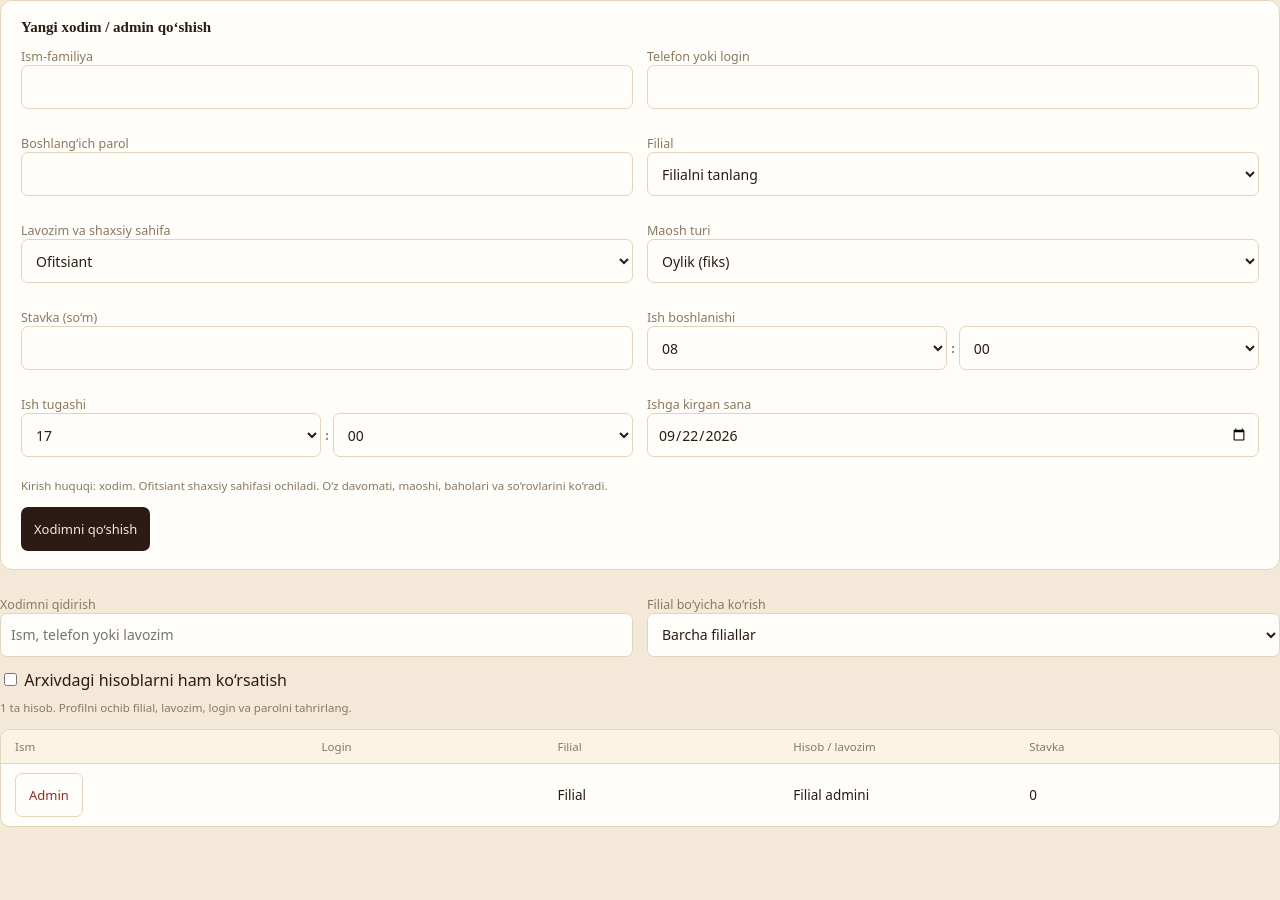
Test: requires an explicit branch, identifies its admin, and keeps a failed new-employee form
This screenshot has width=1280, height=900.
Type "New employee" into the field labelled "Ism-familiya" at (327, 87), box [21,65,633,109]
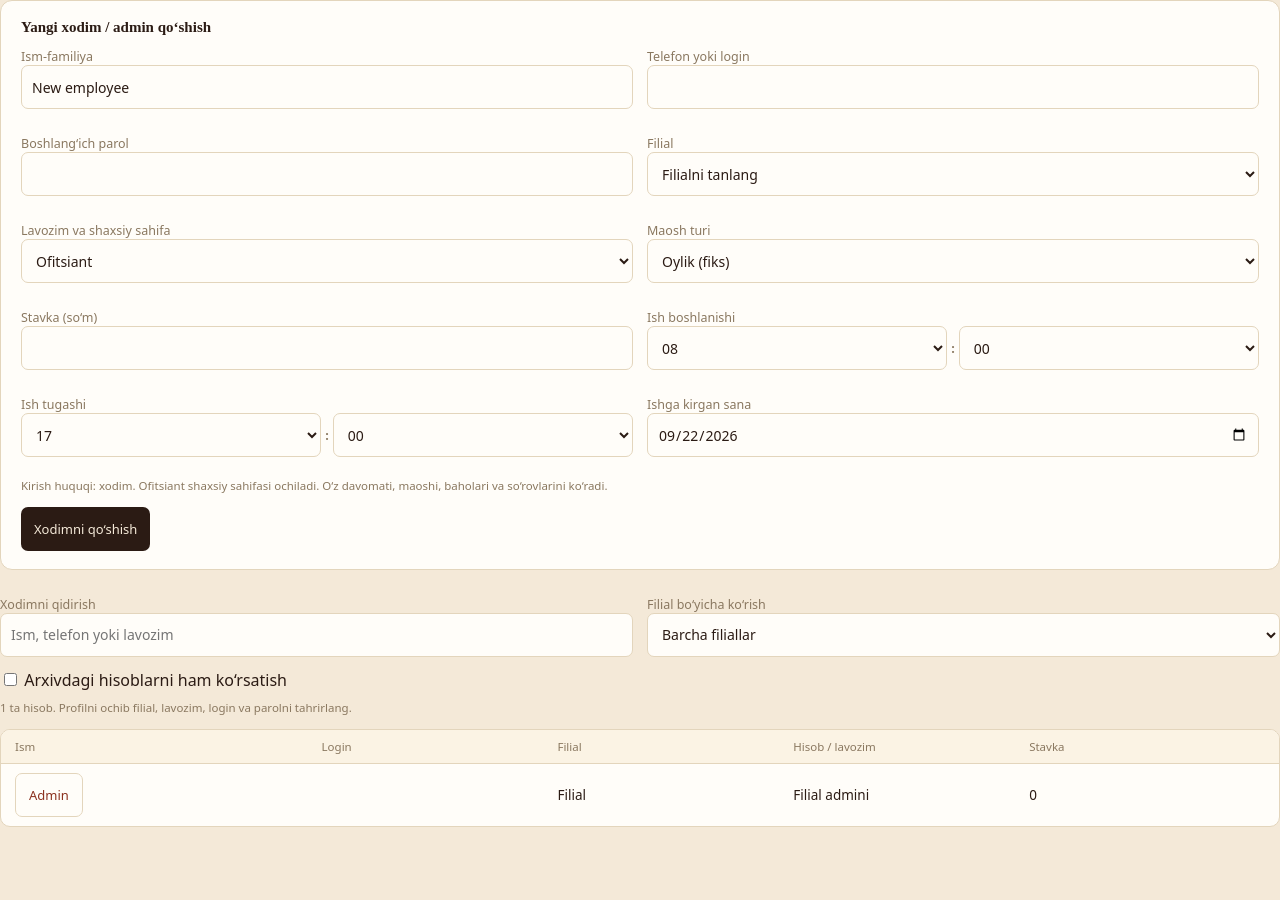
Type "+998956604409" into the field labelled "Telefon yoki login" at (953, 87), box [647,65,1259,109]
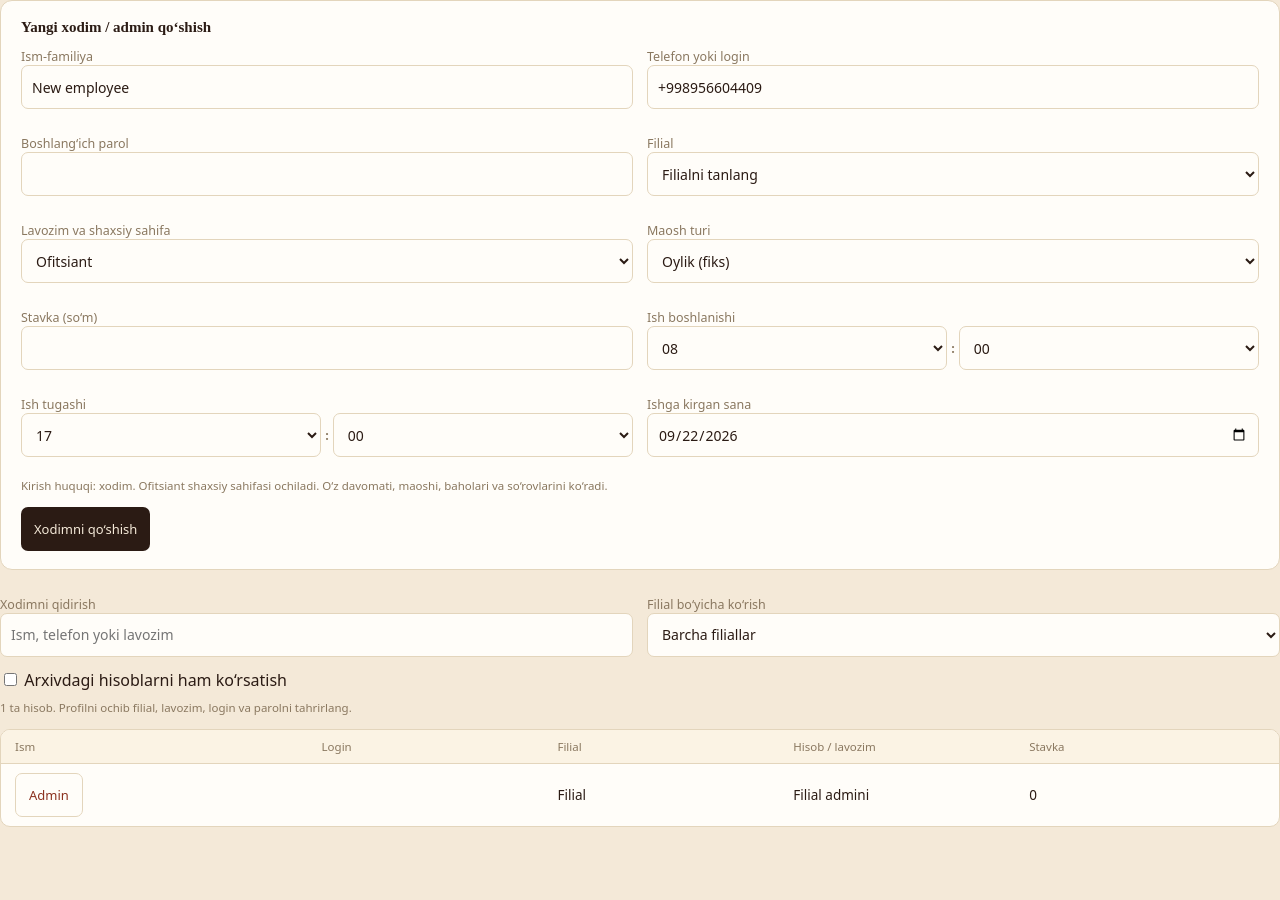
Type "new-test-password" into the password field labelled "Boshlang‘ich parol" at (327, 174), box [21,152,633,196]
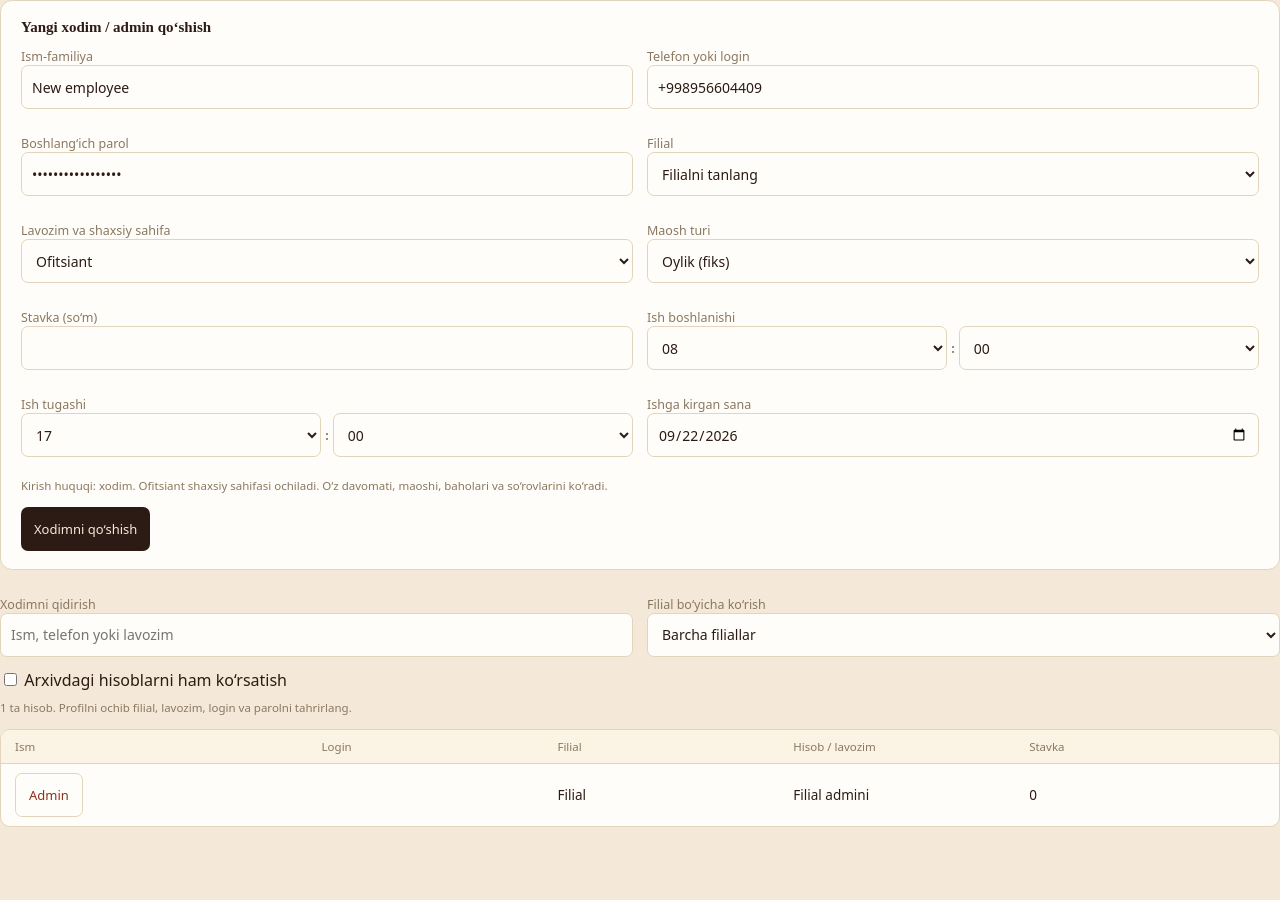
Type "120000" into the number field labelled "Stavka (so‘m)" at (327, 348), box [21,326,633,370]
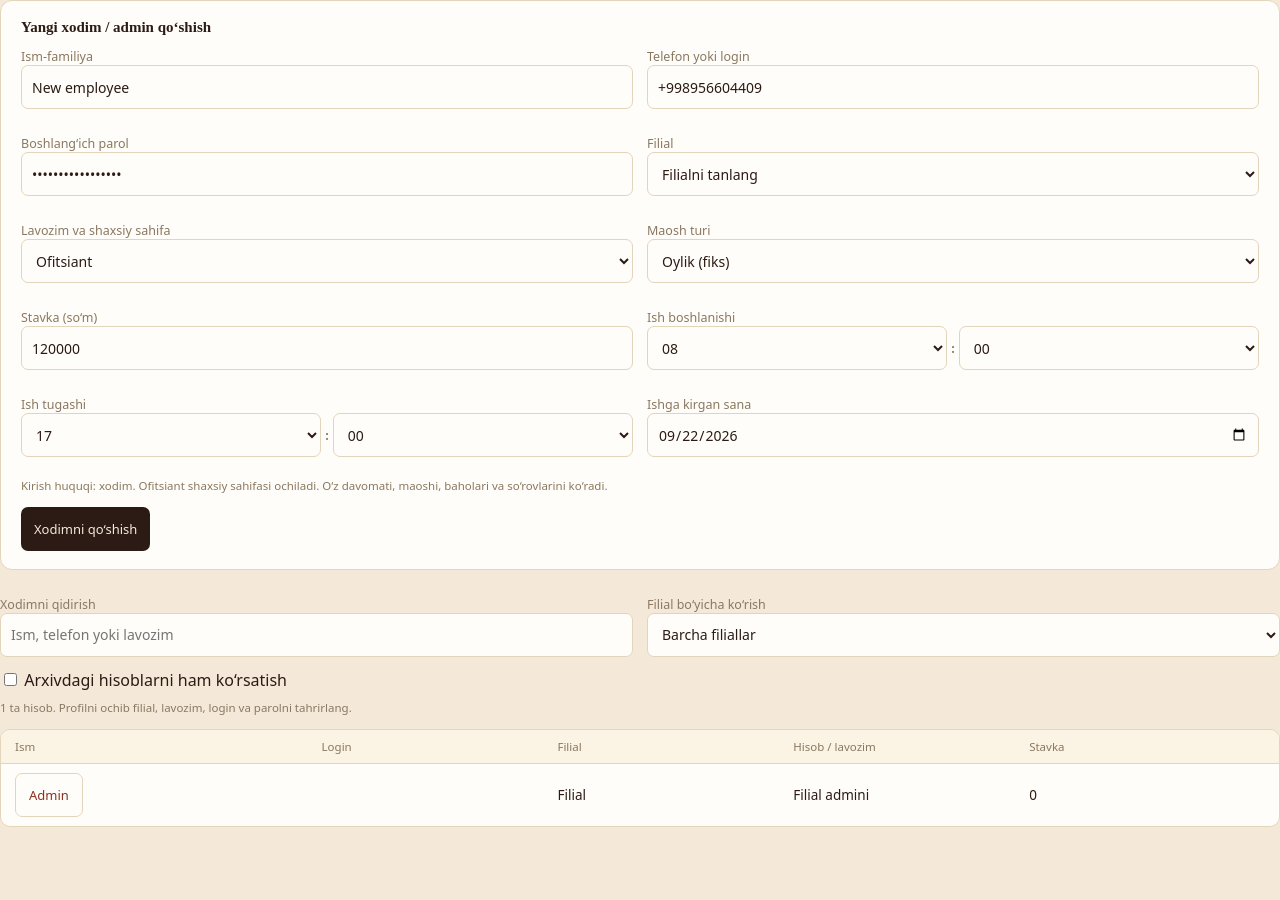
Select "Filial" in the dropdown labelled "Filial" at (953, 174), box [647,152,1259,196]
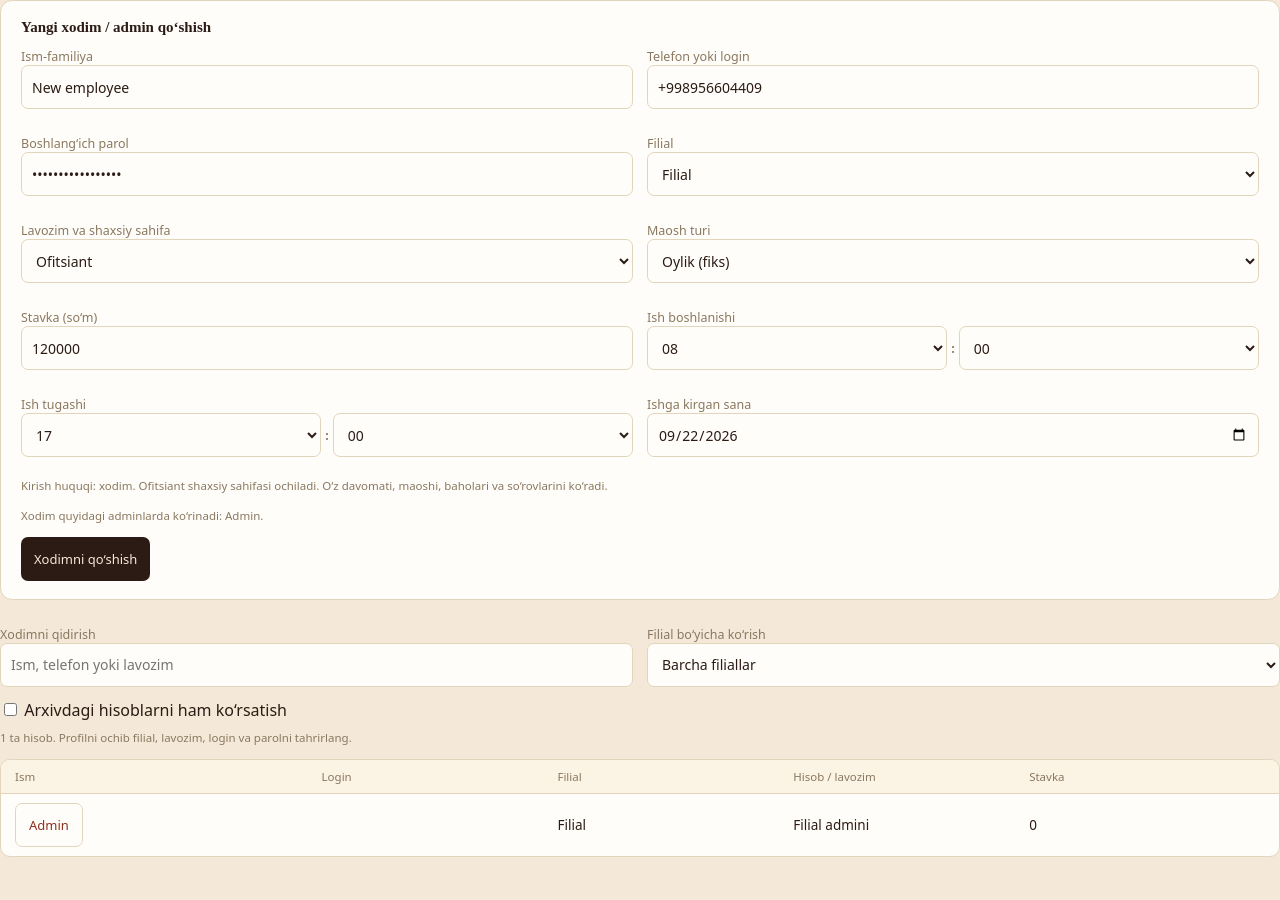
Now the text "Xodim quyidagi adminlarda ko‘rinadi: Admin." is shown, box [21,508,263,523]
Click the button "Xodimni qo‘shish" at (86, 559), box [21,537,150,581]
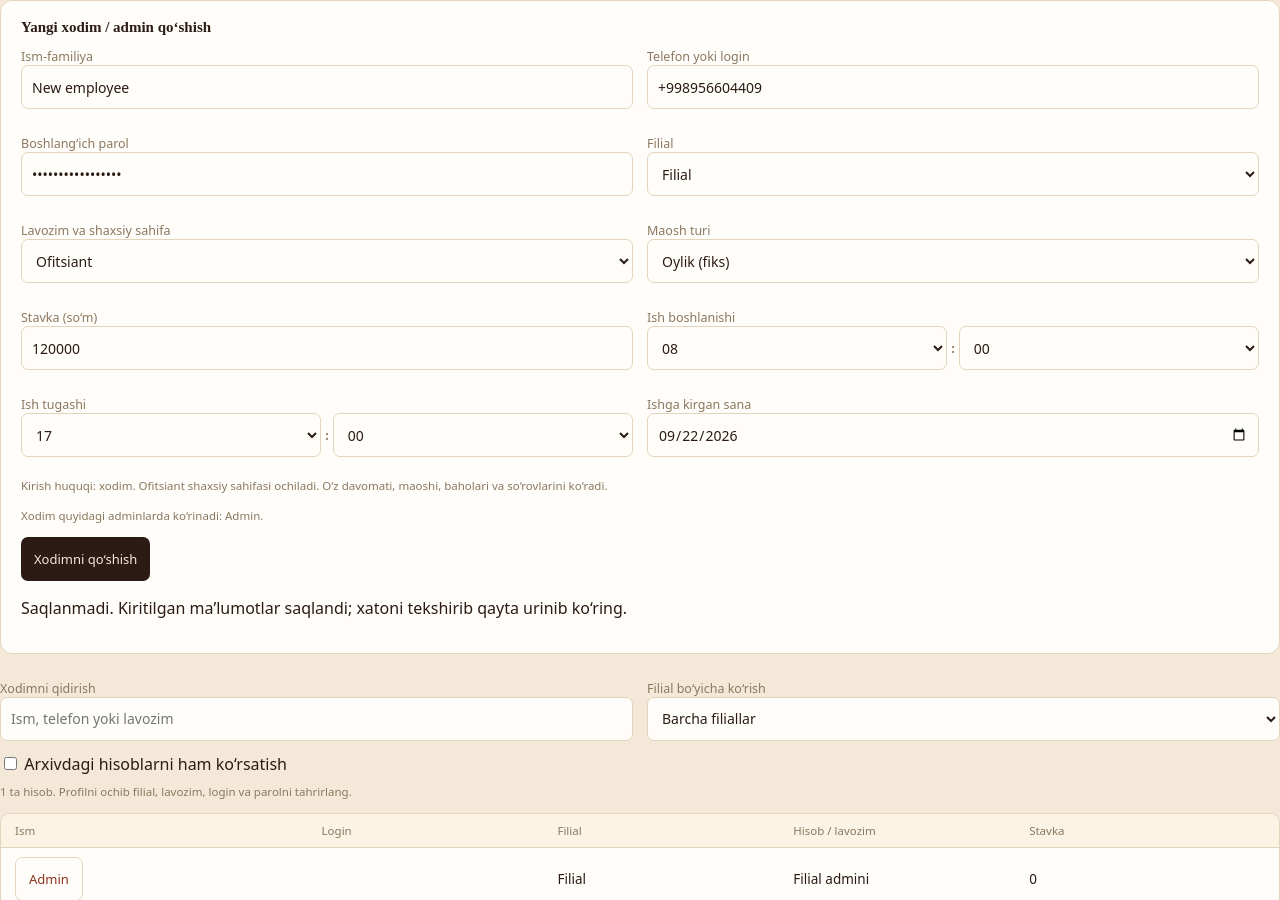
Now the text "Saqlanmadi" is shown, box [21,597,627,619]
